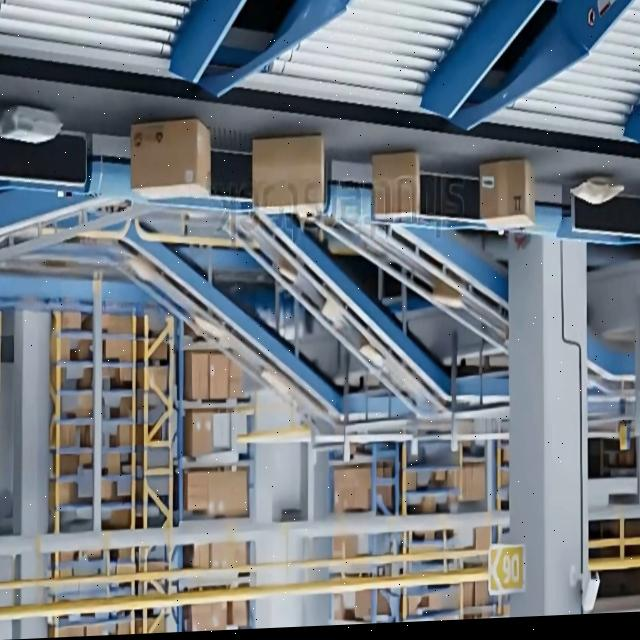product 1: (130, 117, 212, 203), (252, 134, 326, 219), (480, 158, 536, 233), (372, 151, 421, 221)
product 2: (569, 174, 597, 207)
